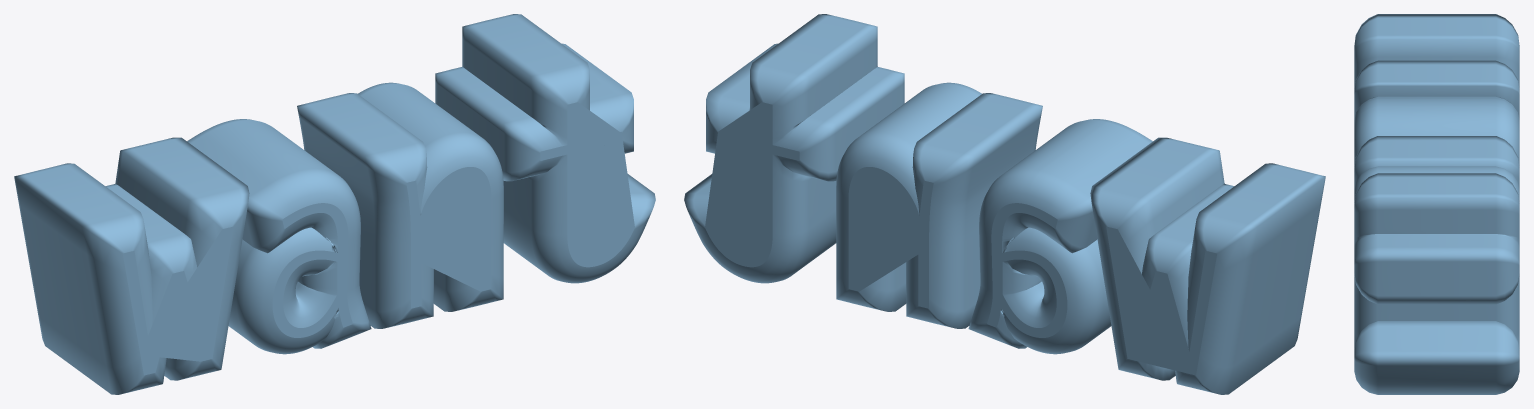
Rendered from want.fbx.
The picture shows the model from 3 angles, left to right: view 1: azimuth 30°, elevation 25°; view 2: azimuth 150°, elevation 25°; view 3: azimuth 270°, elevation 25°; orthographic projection. The views are drawn at different scales.
Visible parts, largest first — view 1: polySurface10; view 2: polySurface10; view 3: polySurface10.
Part boxes in pixels (x1,y1,x2,y2): polySurface10: (14,14,655,394); polySurface10: (684,14,1325,394); polySurface10: (1354,14,1519,394).
Size of the model in its own units: 2.49 by 0.9117 by 0.7.
